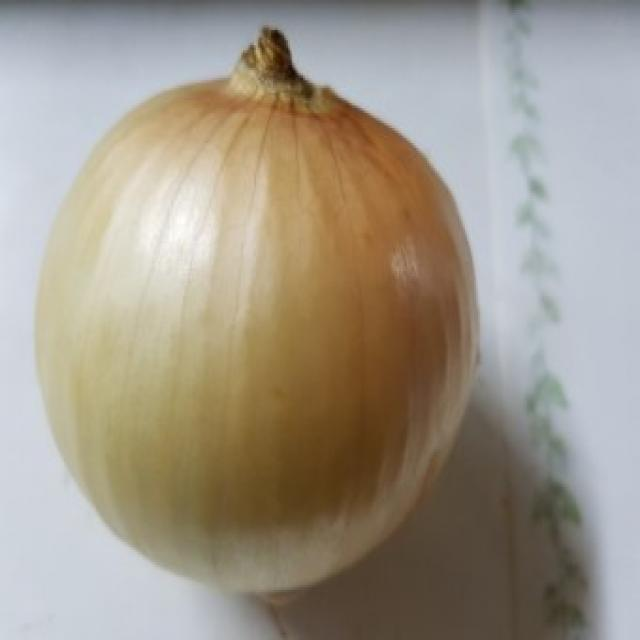onion: (17, 34, 513, 598)
